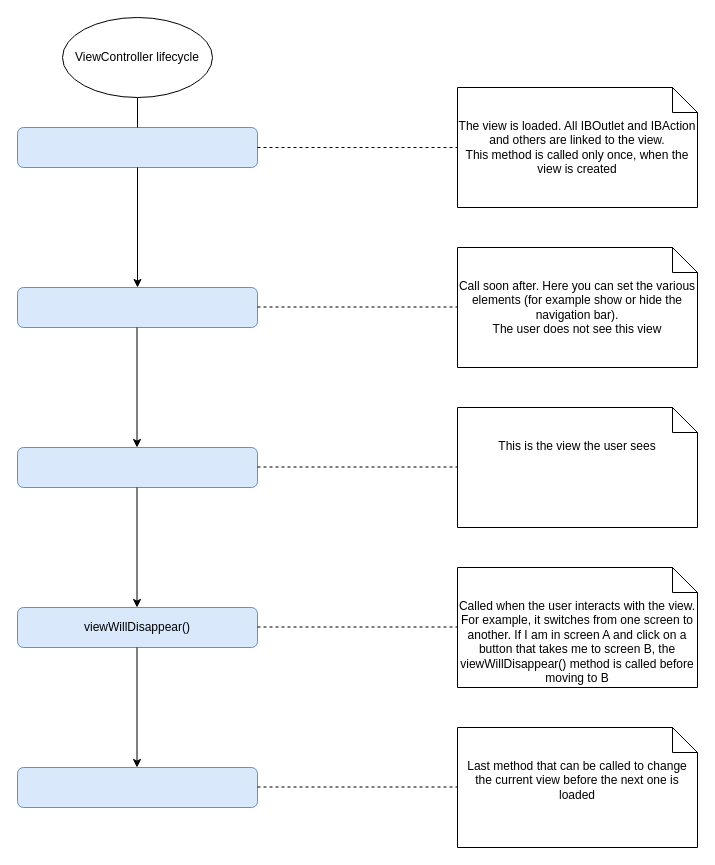
Some shapes in this 715 by 865 pixel diagram are drawn without their labels. Each missing label, with the centre of its shape:
"viewDidAppear()" belongs at (137,467).
"viewDidDisappear()" belongs at (137,787).
"viewDidLoad()" belongs at (137,147).
"viewWillAppear()" belongs at (137,307).
